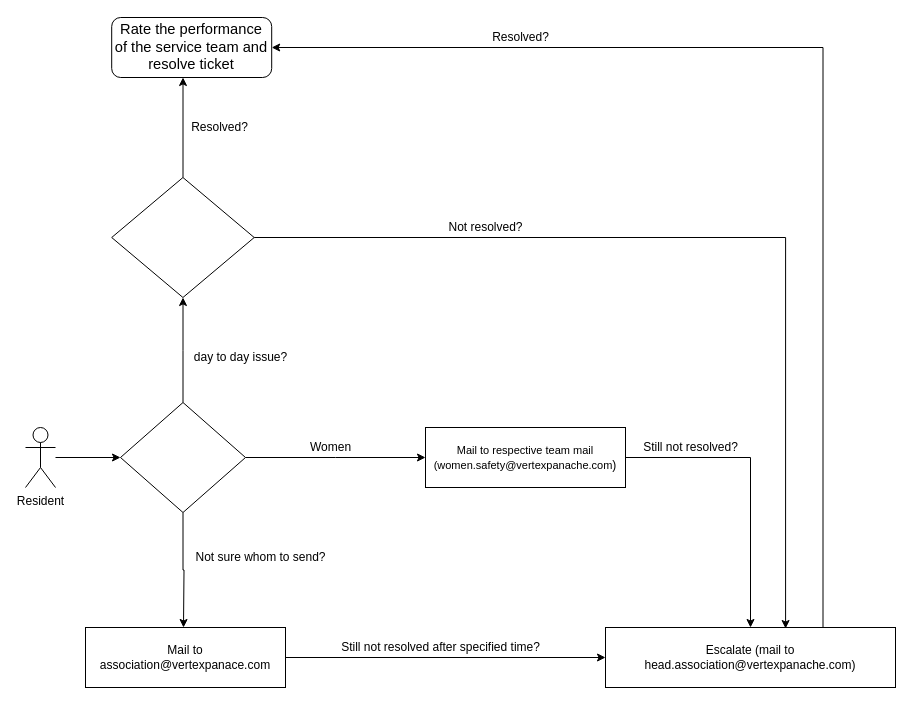
The diagram is 913 pixels wide and 705 high, and some of its shapes have lost their labels. Here are the shapes that lost their labels. From the top down, the centre of each, then its label:
the point at 182,237: Raise complaint in MyGate Helpdesk
the point at 183,457: Has a complaint?
